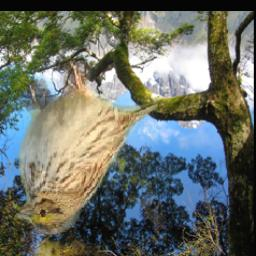Sparrow: (12, 62, 159, 238)
